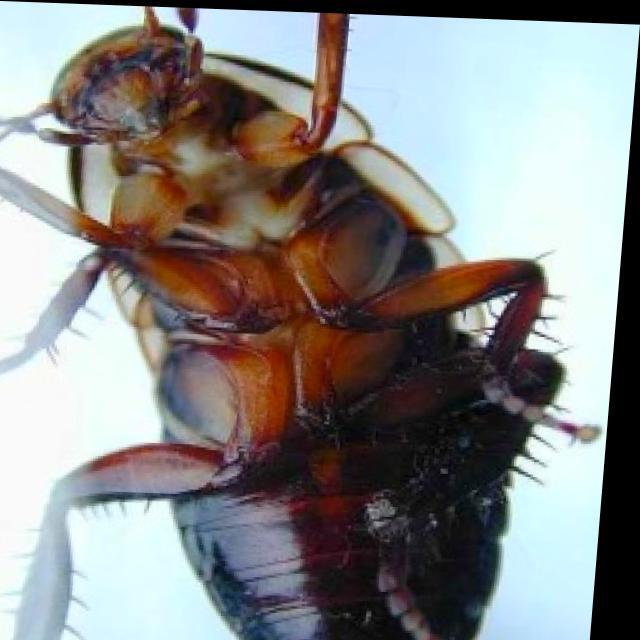cockroach: (3, 9, 600, 637)
